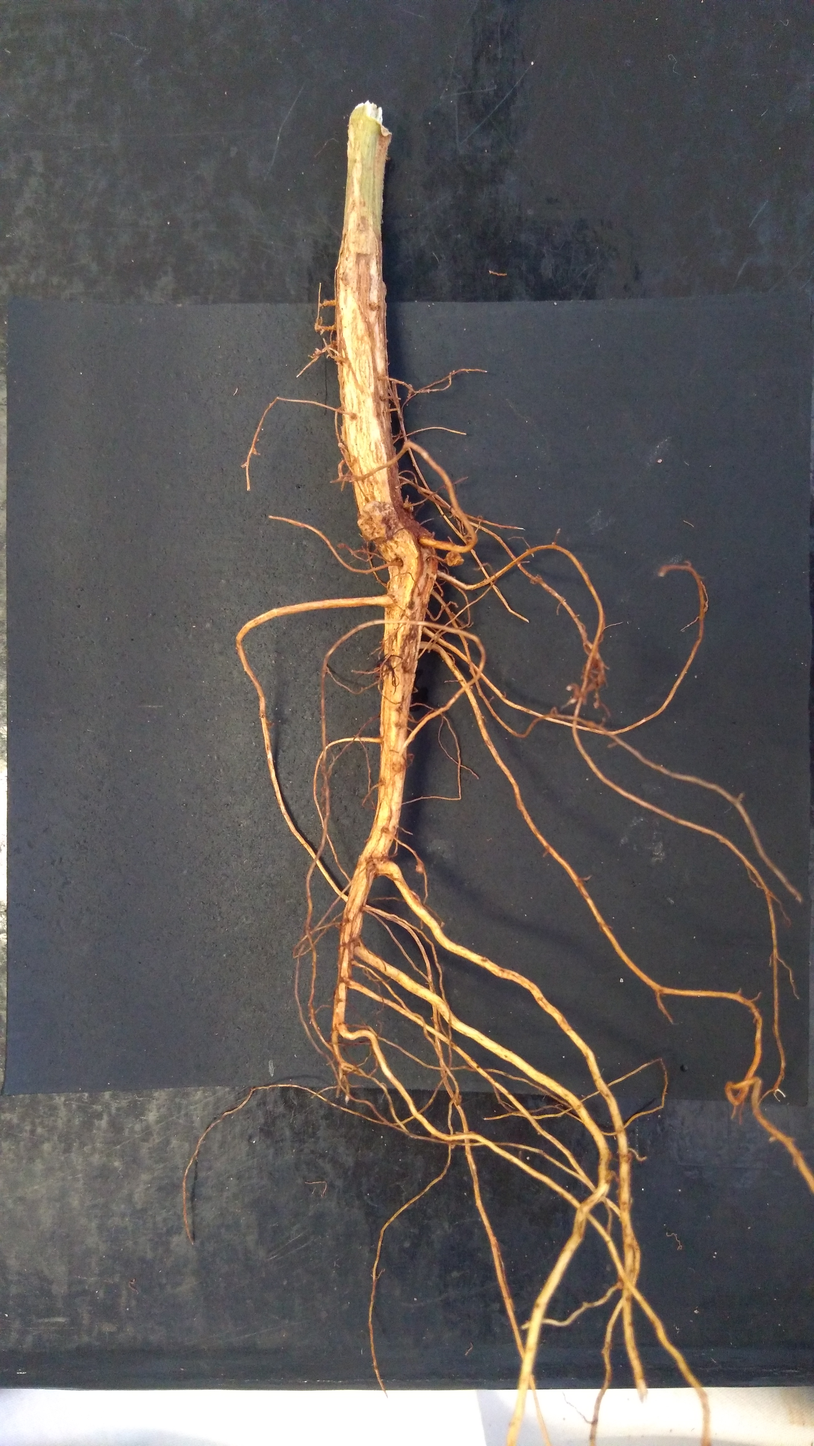nodule: (356, 501, 398, 544), (445, 550, 464, 567), (403, 500, 414, 512), (414, 862, 424, 874), (337, 542, 345, 549), (319, 328, 325, 335), (337, 442, 343, 448), (317, 303, 322, 308)
